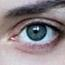eye: (26, 24, 47, 41)
